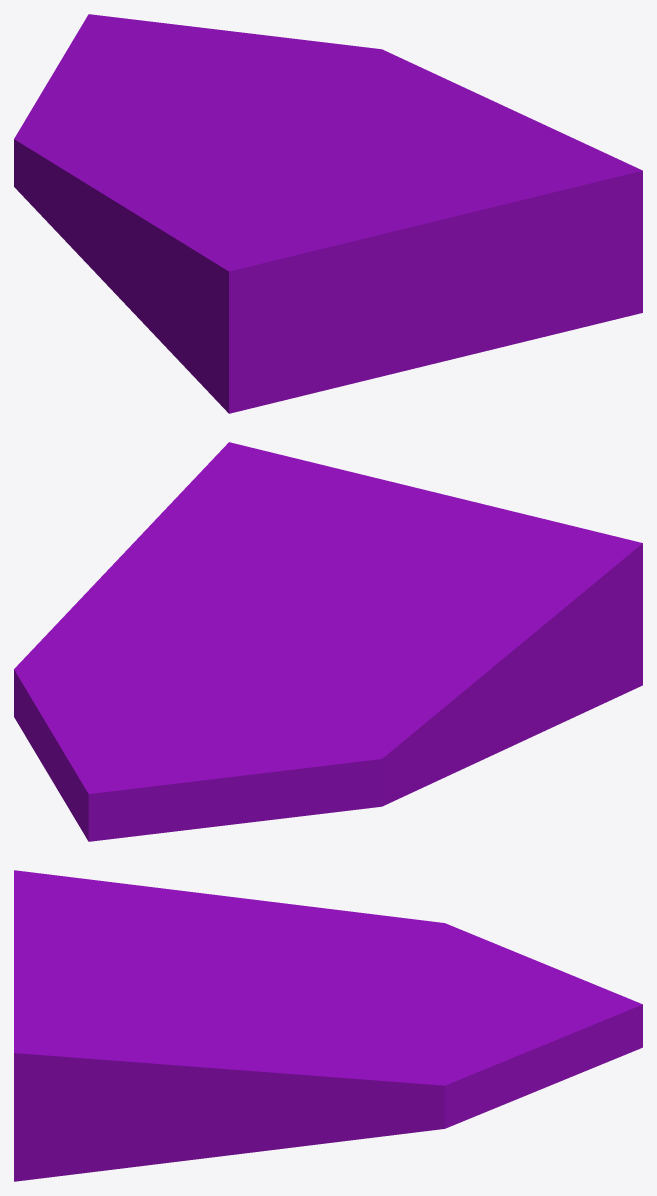
The model's file is piece_purple.gltf.
The picture shows the model from 3 angles, top to bottom: view 1: azimuth 30°, elevation 25°; view 2: azimuth 150°, elevation 25°; view 3: azimuth 270°, elevation 25°; orthographic projection. The views are drawn at different scales.
Visible parts, largest first — view 1: Cube; view 2: Cube; view 3: Cube.
Boxes of the visible parts, box(x1,y1,x2,y2) form: Cube: box(14, 14, 642, 413); Cube: box(14, 442, 642, 841); Cube: box(14, 870, 642, 1181).
Bounding box in the file's own units: 0.6994 × 0.2297 × 1.02.
